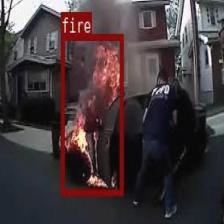fire: (61, 34, 122, 194)
